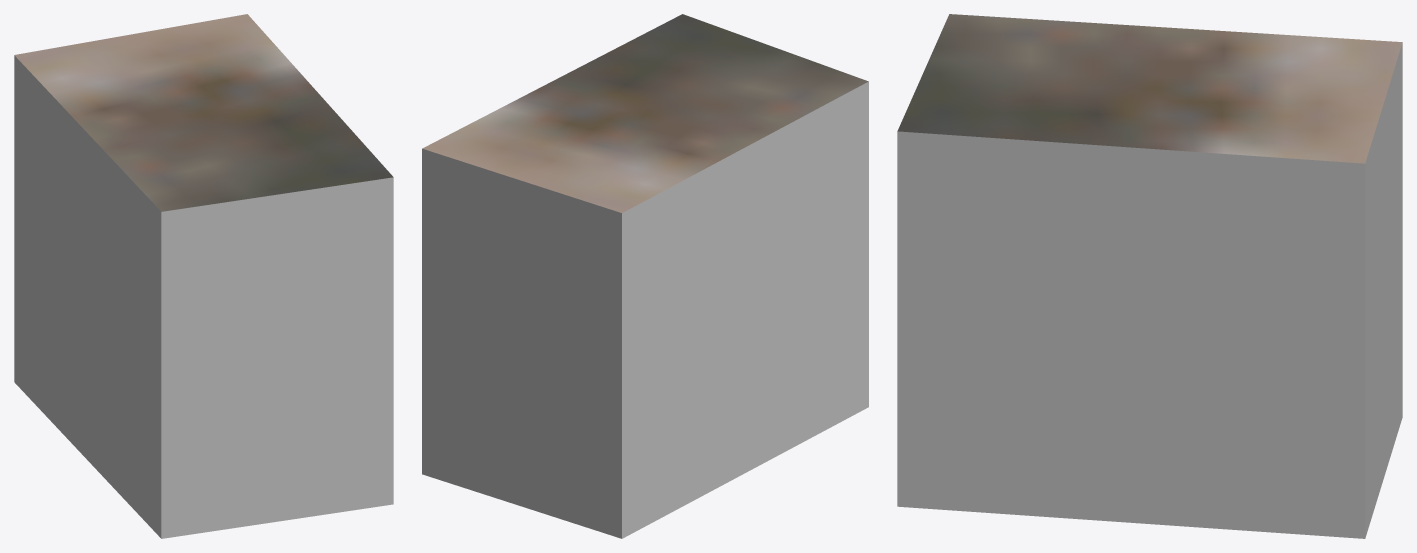
File: DEBW_0010007Tx4Z.gltf
The picture shows the model from 3 angles, left to right: view 1: azimuth 30°, elevation 25°; view 2: azimuth 150°, elevation 25°; view 3: azimuth 270°, elevation 25°; orthographic projection. The views are drawn at different scales.
Parts seen in each view (by area): view 1: Z_UP; view 2: Z_UP; view 3: Z_UP.
Boxes of the visible parts, left/top/right/bottom form: Z_UP: left=14, top=14, right=393, bottom=538; Z_UP: left=422, top=14, right=868, bottom=538; Z_UP: left=897, top=14, right=1402, bottom=538.
Size of the model in its own units: 2.18 by 2.55 by 3.11.
2 materials, 1 textured.
